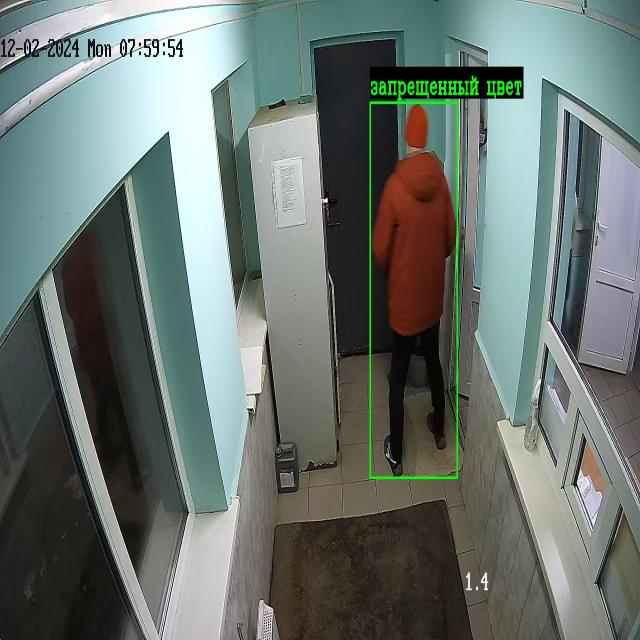Person: (372, 105, 456, 475)
